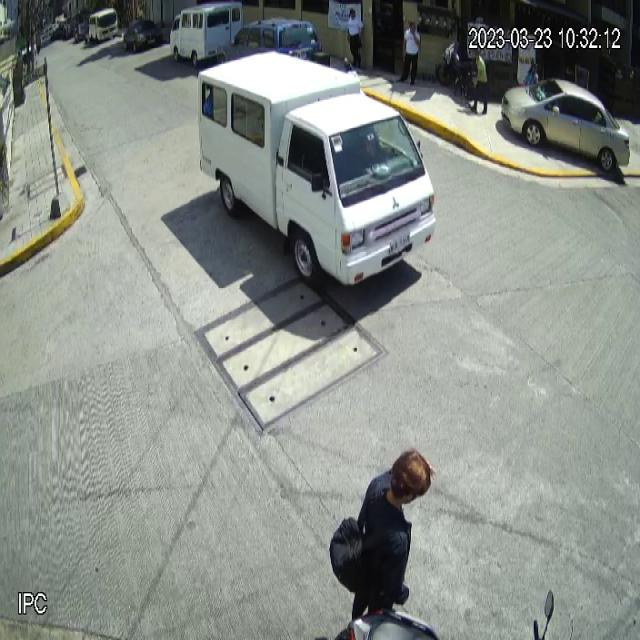Car: (500, 77, 631, 172)
Van: (200, 49, 436, 288), (169, 0, 243, 68)
